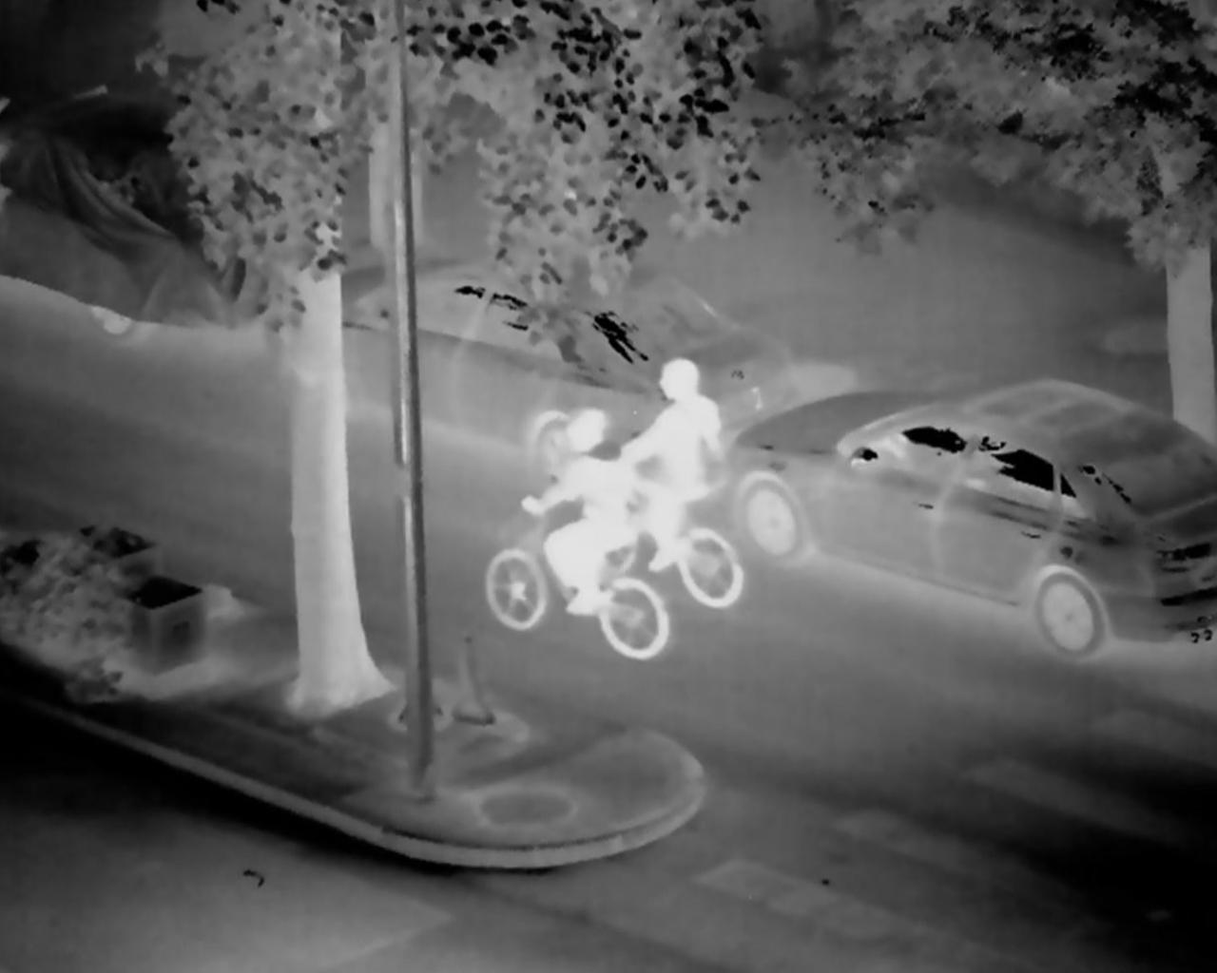person: (512, 410, 634, 630), (619, 357, 743, 565)
